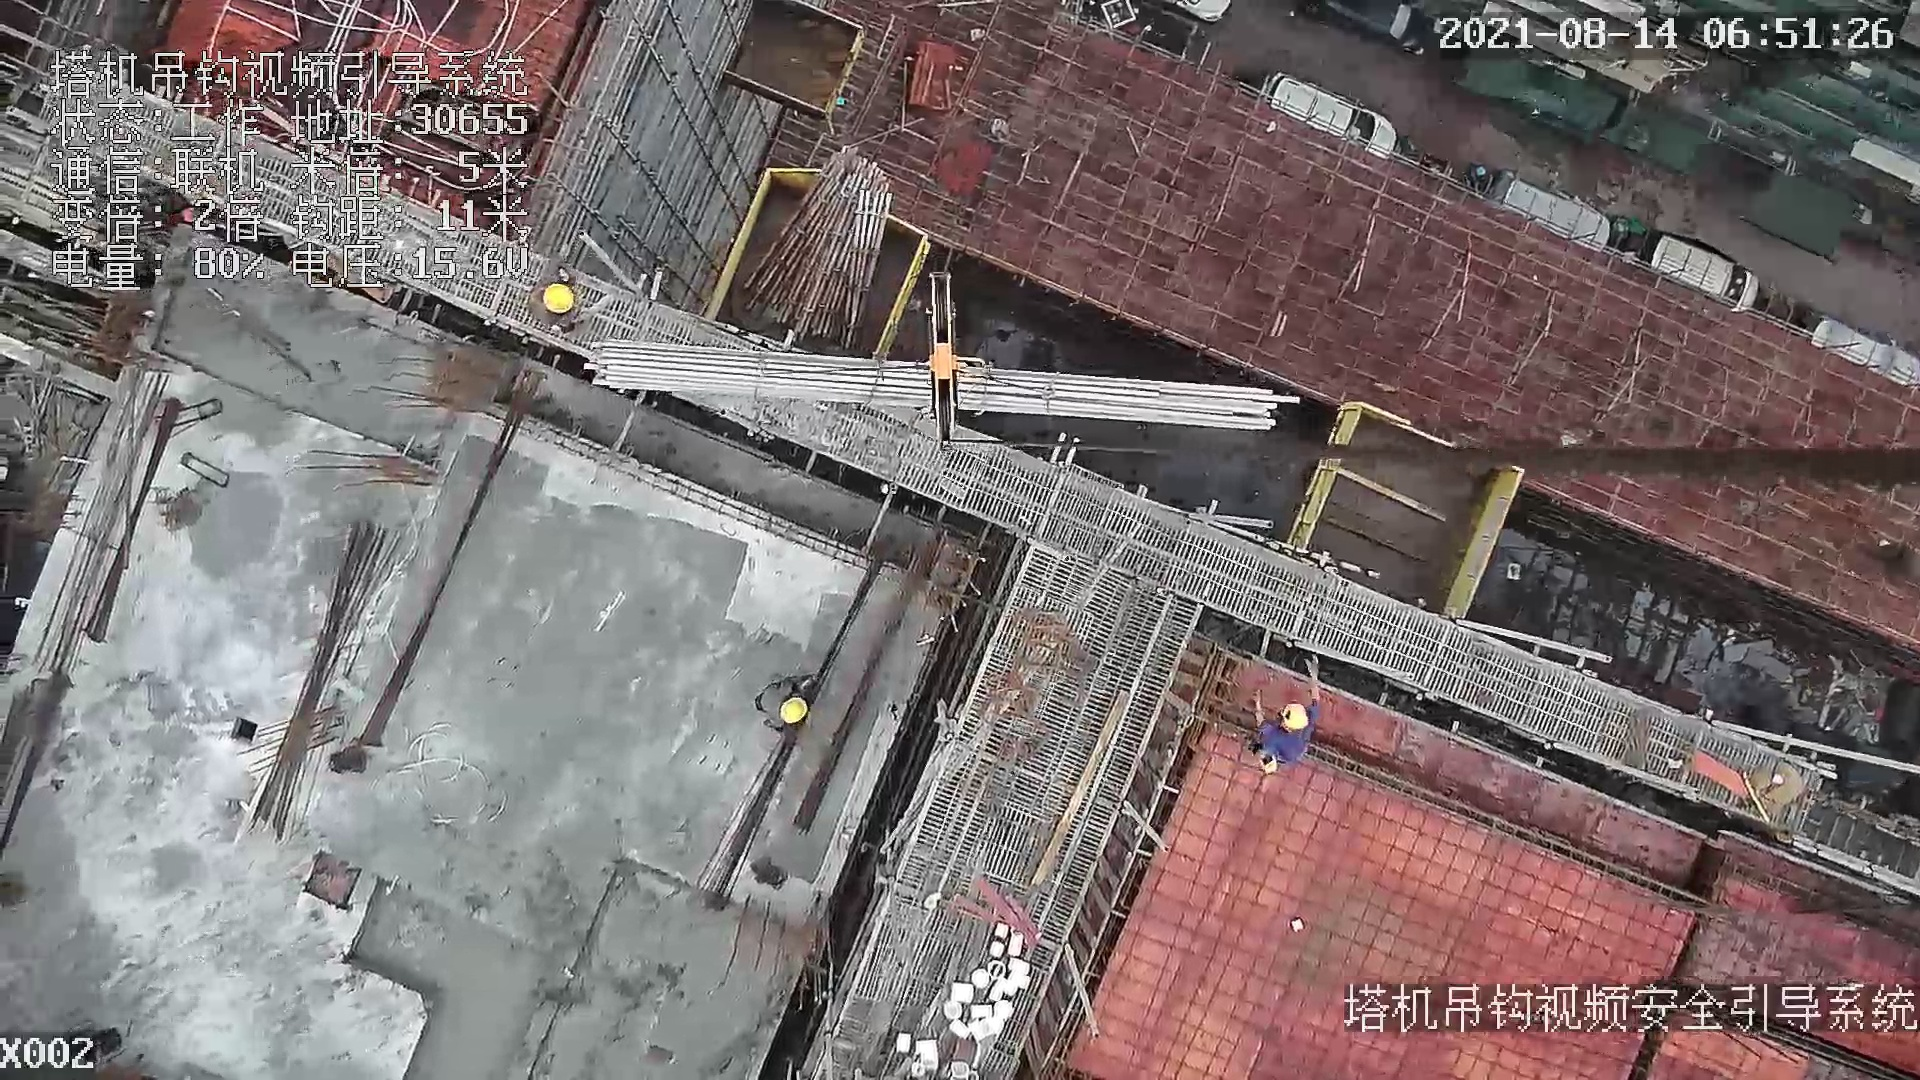helmet: (544, 284, 575, 315), (778, 697, 808, 726), (1281, 703, 1312, 729)
hook: (913, 265, 999, 465)
person: (1254, 646, 1327, 773), (753, 669, 819, 735), (528, 267, 587, 331)
rebar: (588, 334, 1301, 431), (250, 524, 408, 837)
scaffold: (742, 141, 890, 351)
